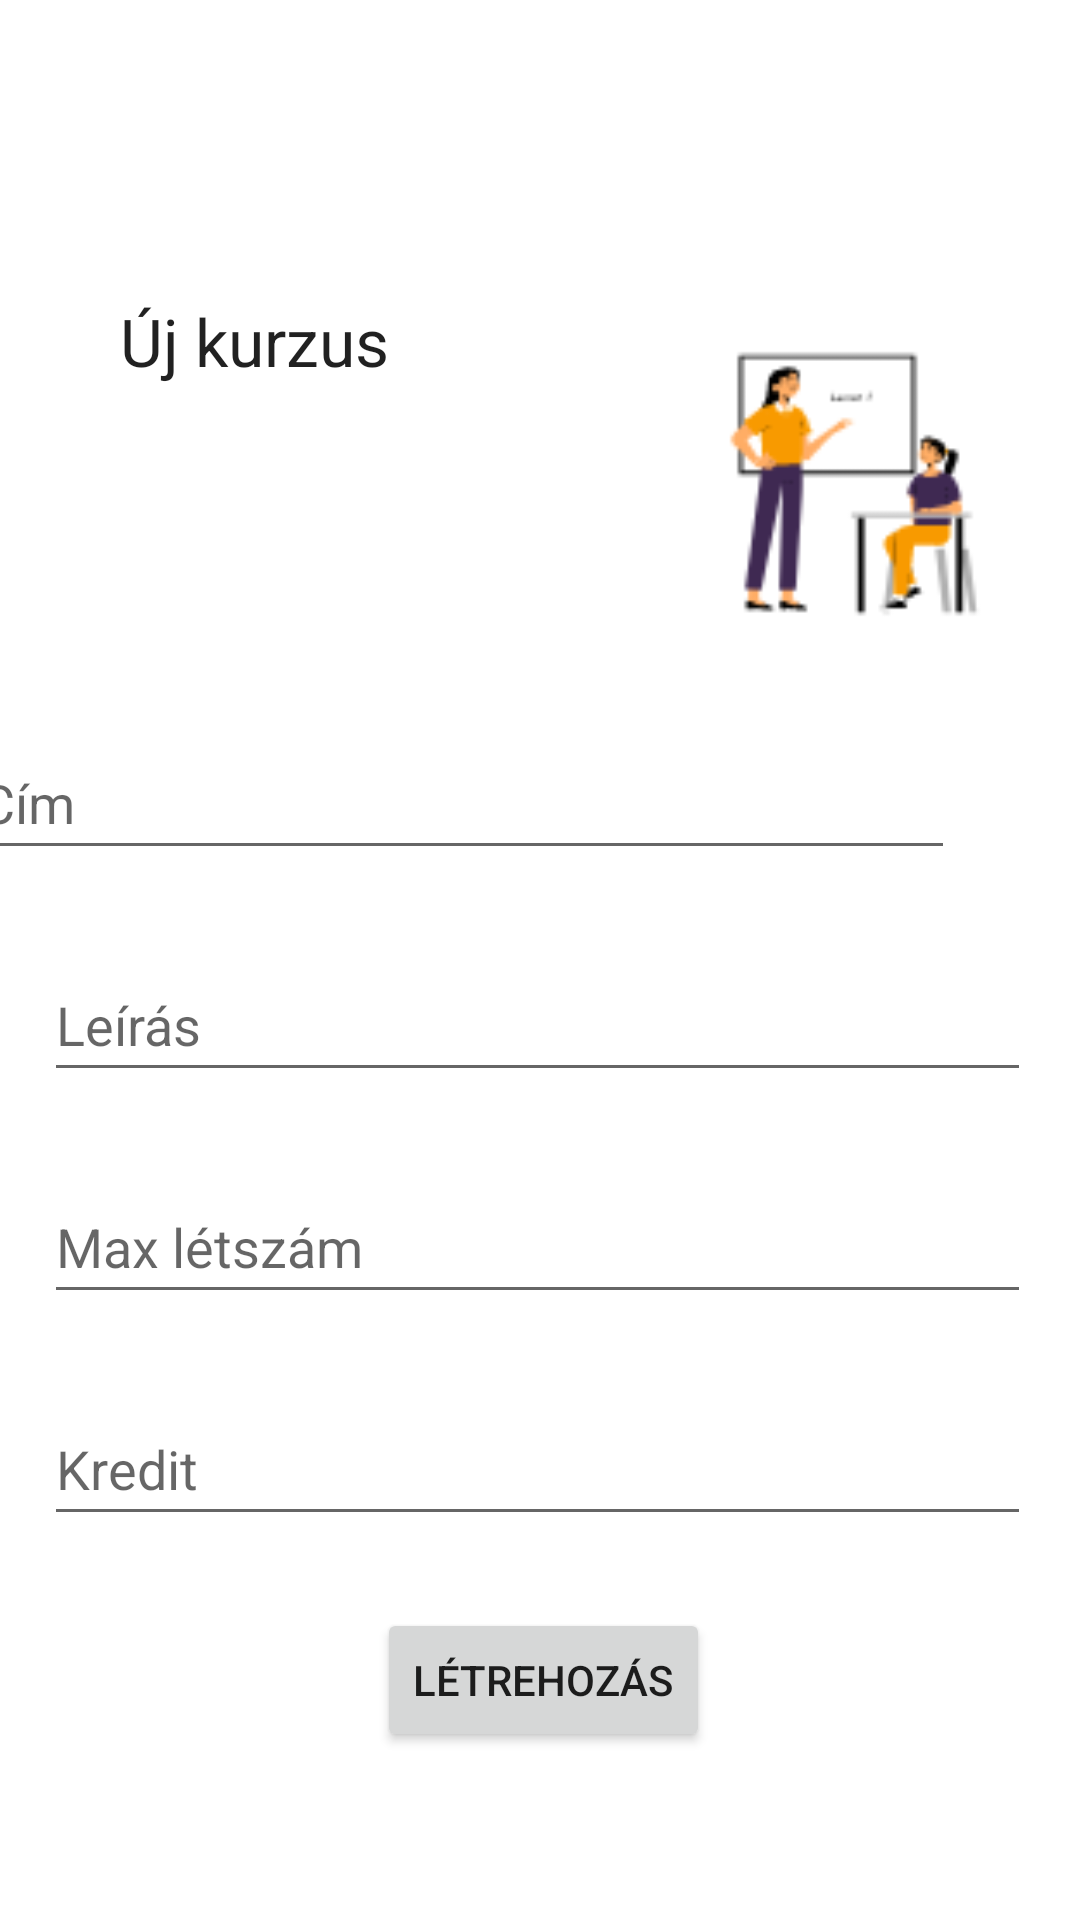

Screen size 1080×1920. Icon name, then its center in pixels as point (x, y):
tutorapp: point (853, 483)
